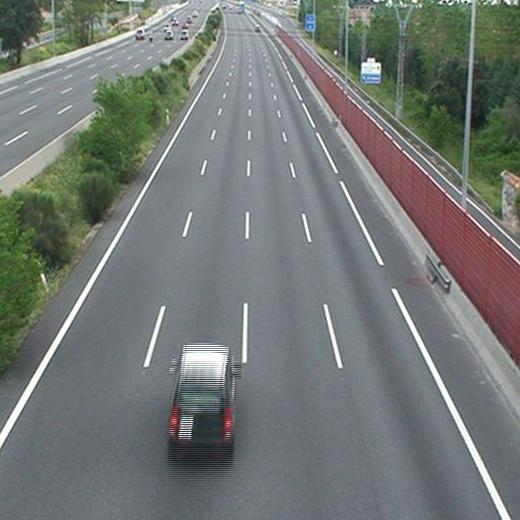van: (168, 346, 234, 449)
